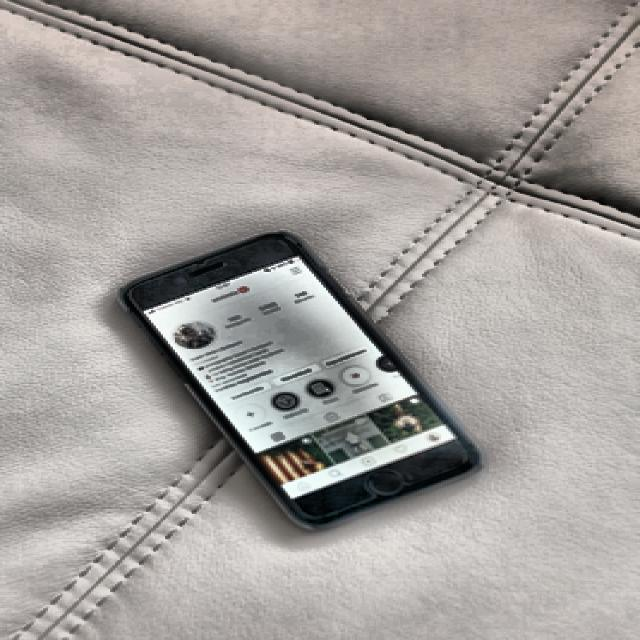Phone: (112, 227, 487, 536)
